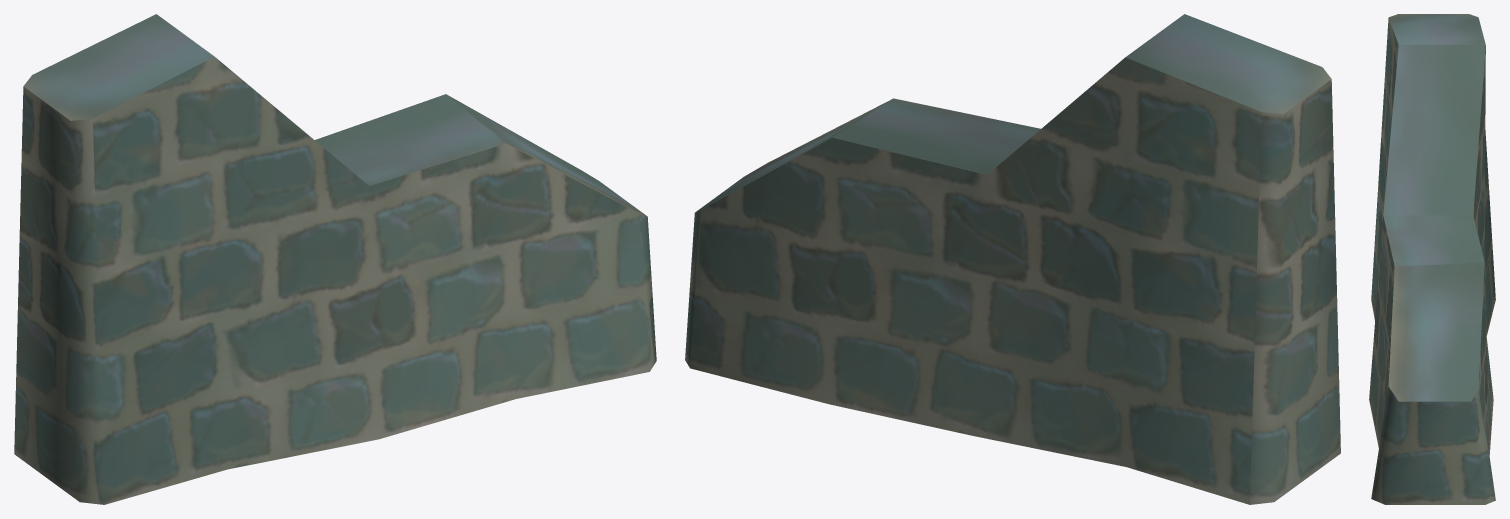
Rendered from HalfWall_Broken.fbx.
3 views of the same model, side by side, from view 1: azimuth 30°, elevation 25°; view 2: azimuth 150°, elevation 25°; view 3: azimuth 270°, elevation 25° (orthographic). The views are drawn at different scales.
Parts seen in each view (by area): view 1: Cube.024; view 2: Cube.024; view 3: Cube.024.
Boxes of the visible parts, box(x1,y1,x2,y2) form: Cube.024: box(14, 14, 656, 504); Cube.024: box(685, 14, 1340, 504); Cube.024: box(1369, 14, 1495, 504).
Size of the model in its own units: 400 by 271 by 102.
